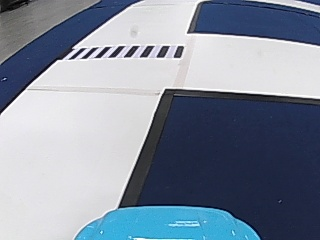CrossWalk: (71, 43, 189, 60)
